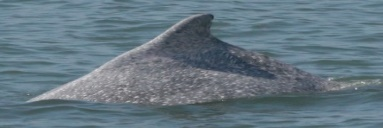fin: (25, 9, 363, 121)
